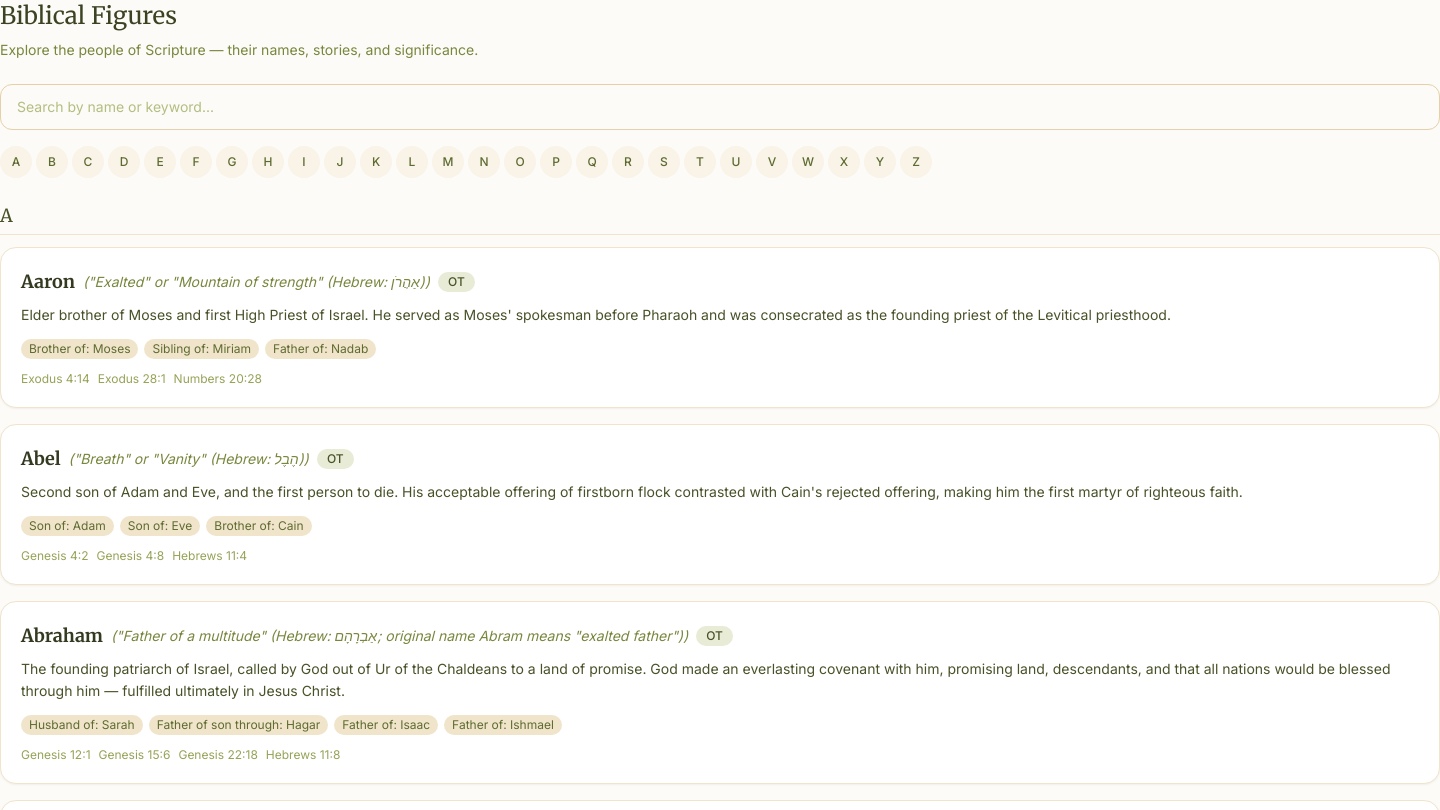
Test: GlossaryPage › shows empty state when search has no results
In the field with placeholder "Search by name or keyword...": (720, 107) x1=0 y1=84 x2=1439 y2=130, type "xyzunknownfigure999"
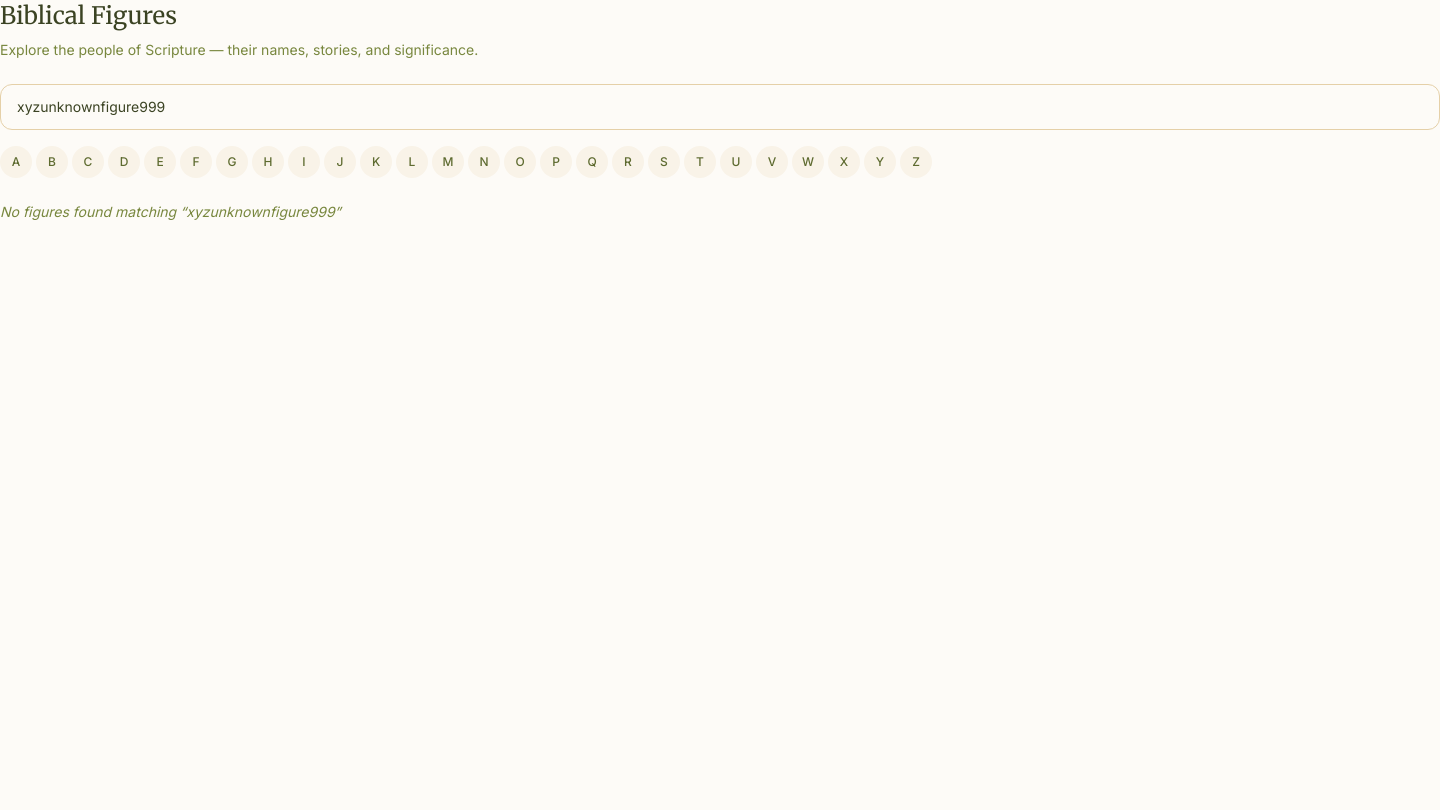
Expected: the text "No figures found matching “xyzunknownfigure999”" is shown, x1=0 y1=203 x2=341 y2=220
